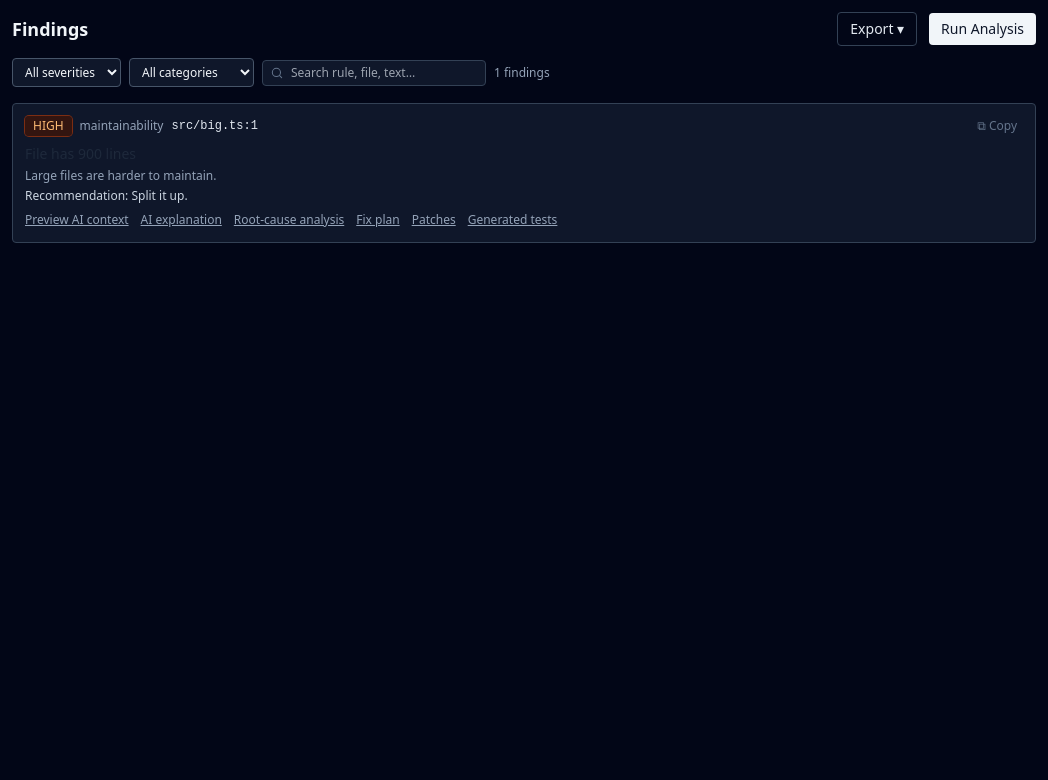
FindingsPage › generates and displays a fix plan with all seven sections
Expected: the text "src/big.ts:1" is shown, left=172, top=118, right=258, bottom=134
Click the button "Fix plan" at (378, 220), box left=356, top=212, right=400, bottom=228
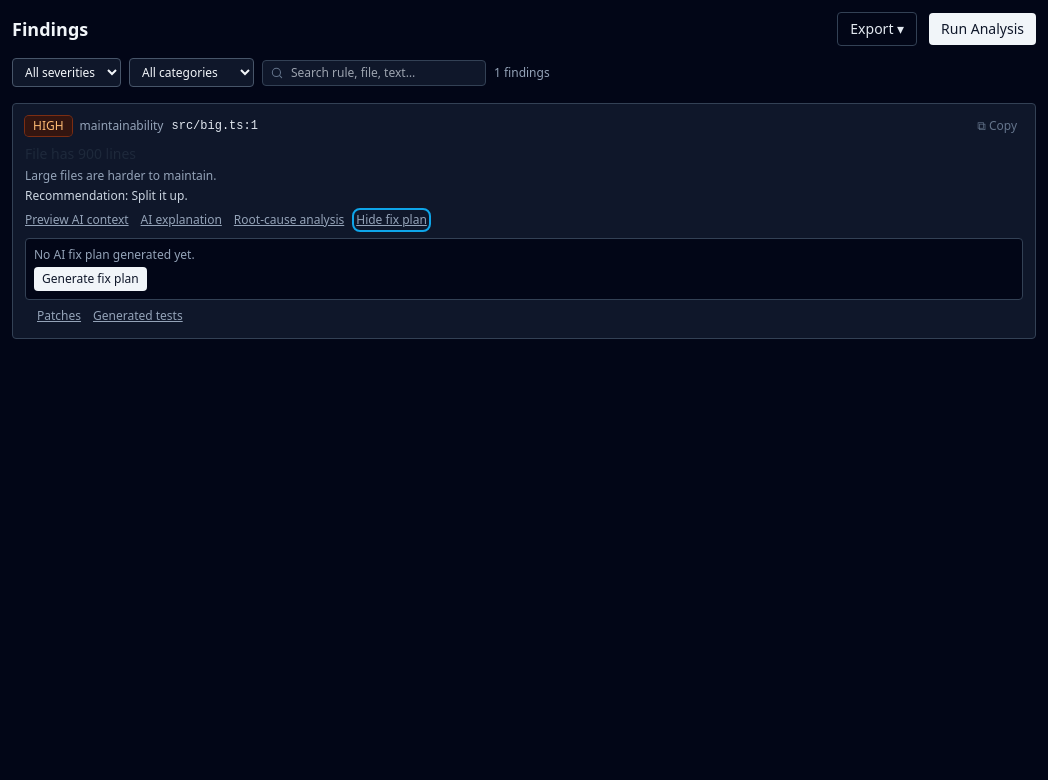
Expected: the text "No AI fix plan generated yet." is shown, left=34, top=246, right=195, bottom=263
Click the button "Generate fix plan" at (90, 279), box left=34, top=267, right=147, bottom=291
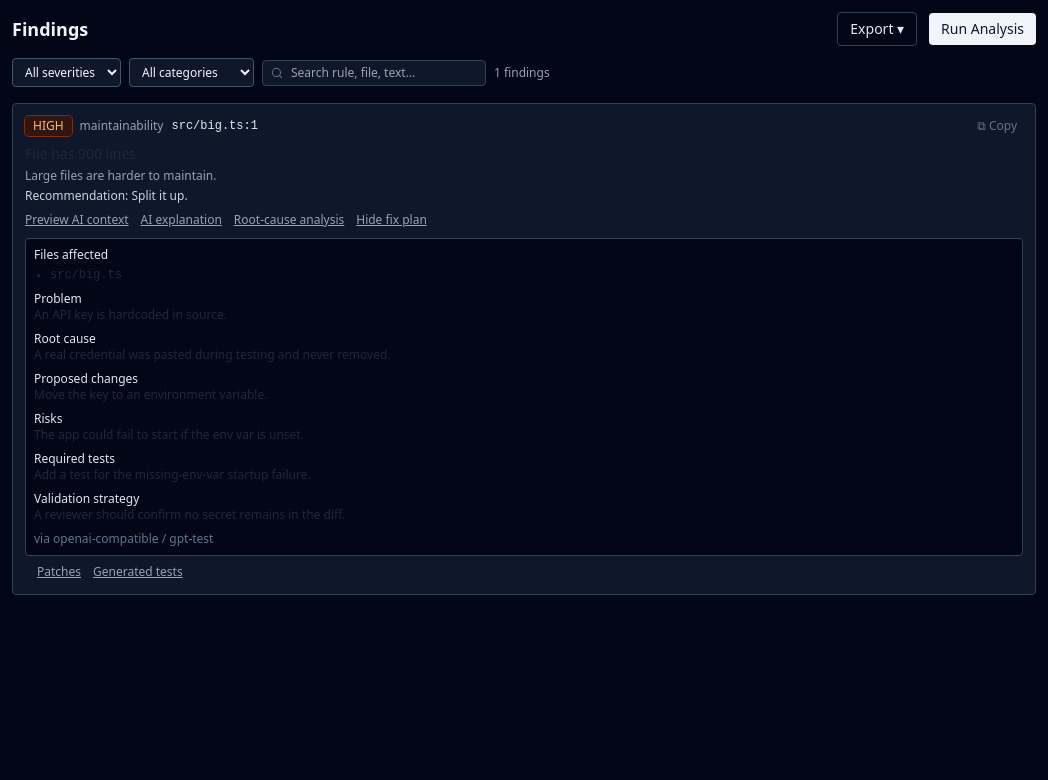
Expected: the list item "src/big.ts" is shown, left=50, top=268, right=122, bottom=282
Expected: the text "An API key is hardcoded in source." is shown, left=34, top=306, right=227, bottom=323
Expected: the text "Move the key to an environment variable." is shown, left=34, top=386, right=267, bottom=403
